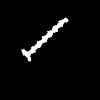half_double_crochet: (22, 18, 67, 60)
